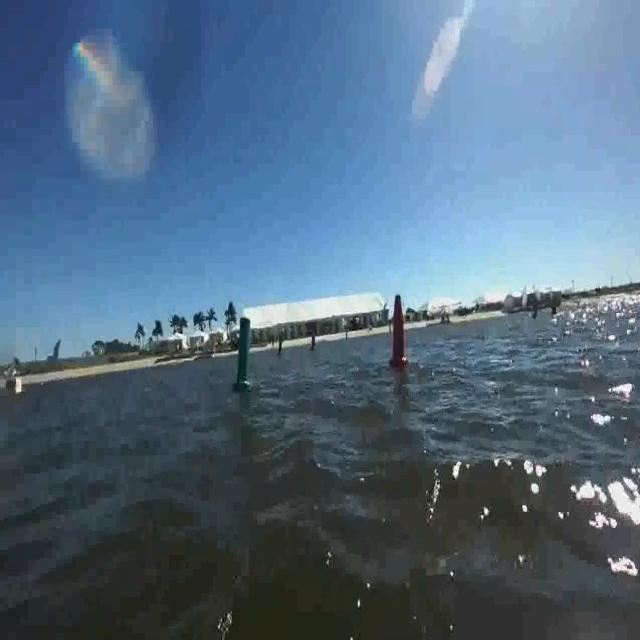green-column-buoy: (234, 315, 256, 392), (277, 332, 286, 358)
red-column-buoy: (387, 293, 409, 370)
